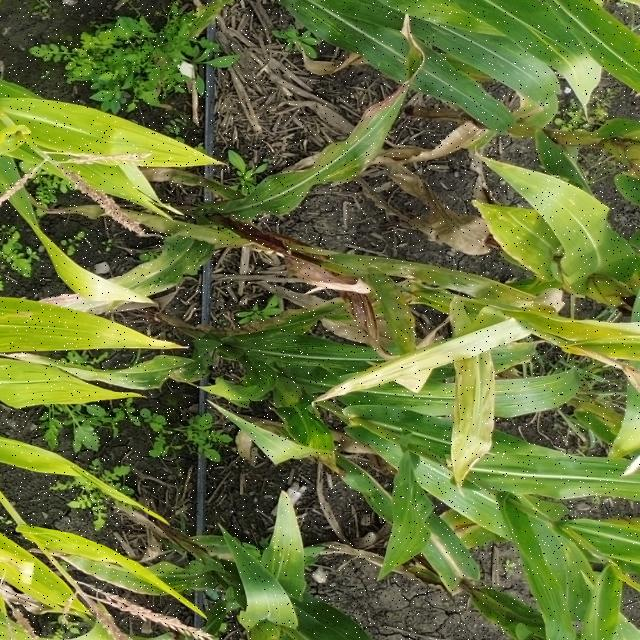gray-leaf-spot: (492, 206, 541, 251), (323, 136, 368, 182), (118, 361, 176, 388), (554, 532, 584, 573)
northern-leaf-blight: (423, 525, 473, 579)
southern-leaf-blight: (1, 300, 82, 348), (5, 444, 68, 473), (264, 536, 306, 568)
